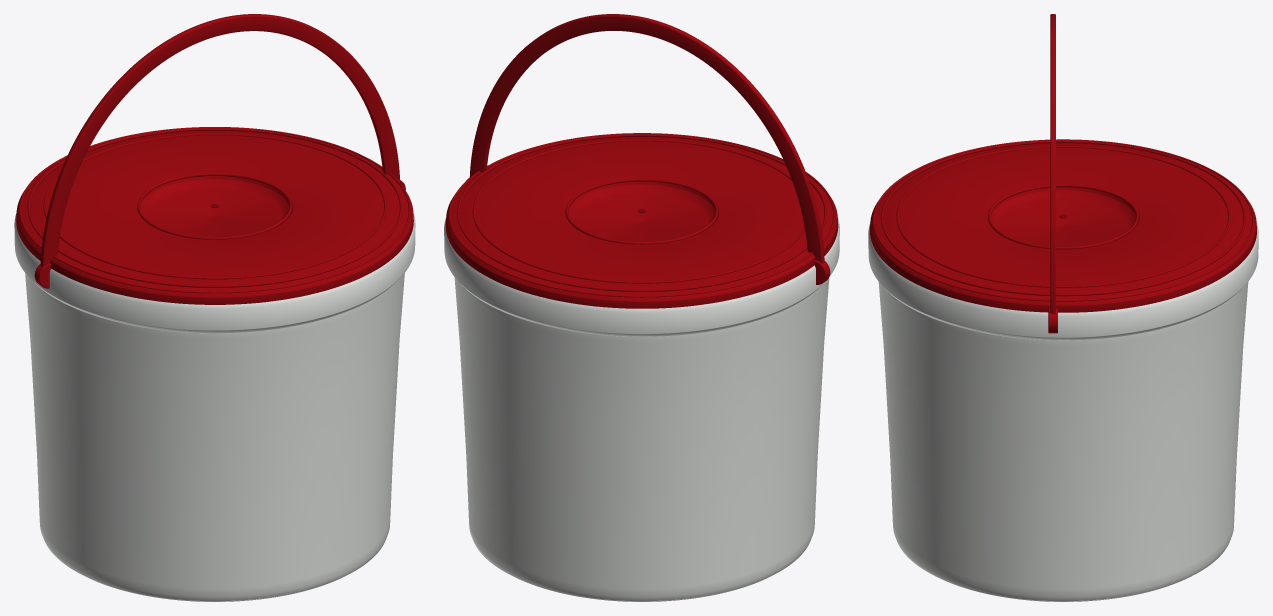
The model's file is product-38-circle-container.glb.
The picture shows the model from 3 angles, left to right: view 1: azimuth 30°, elevation 25°; view 2: azimuth 150°, elevation 25°; view 3: azimuth 270°, elevation 25°; orthographic projection. The views are drawn at different scales.
Parts seen in each view (by area): view 1: 3L pale pink tapered hollow bucket body, glossy red concentric snap lid, broad warm white snap locking rim; view 2: 3L pale pink tapered hollow bucket body, glossy red concentric snap lid, broad warm white snap locking rim; view 3: 3L pale pink tapered hollow bucket body, glossy red concentric snap lid, broad warm white snap locking rim.
Boxes of the visible parts, x1,y1,x2,y2 form: 3L pale pink tapered hollow bucket body: [25, 273, 404, 601]; glossy red concentric snap lid: [16, 14, 413, 304]; broad warm white snap locking rim: [14, 213, 415, 333]; 3L pale pink tapered hollow bucket body: [454, 277, 829, 601]; glossy red concentric snap lid: [445, 14, 838, 308]; broad warm white snap locking rim: [444, 218, 839, 336]; 3L pale pink tapered hollow bucket body: [878, 282, 1248, 601]; glossy red concentric snap lid: [870, 14, 1256, 333]; broad warm white snap locking rim: [868, 223, 1258, 340].
Bounding box in the file's own units: 0.2202 × 0.2953 × 0.2084.
5 materials, 5 textured.
